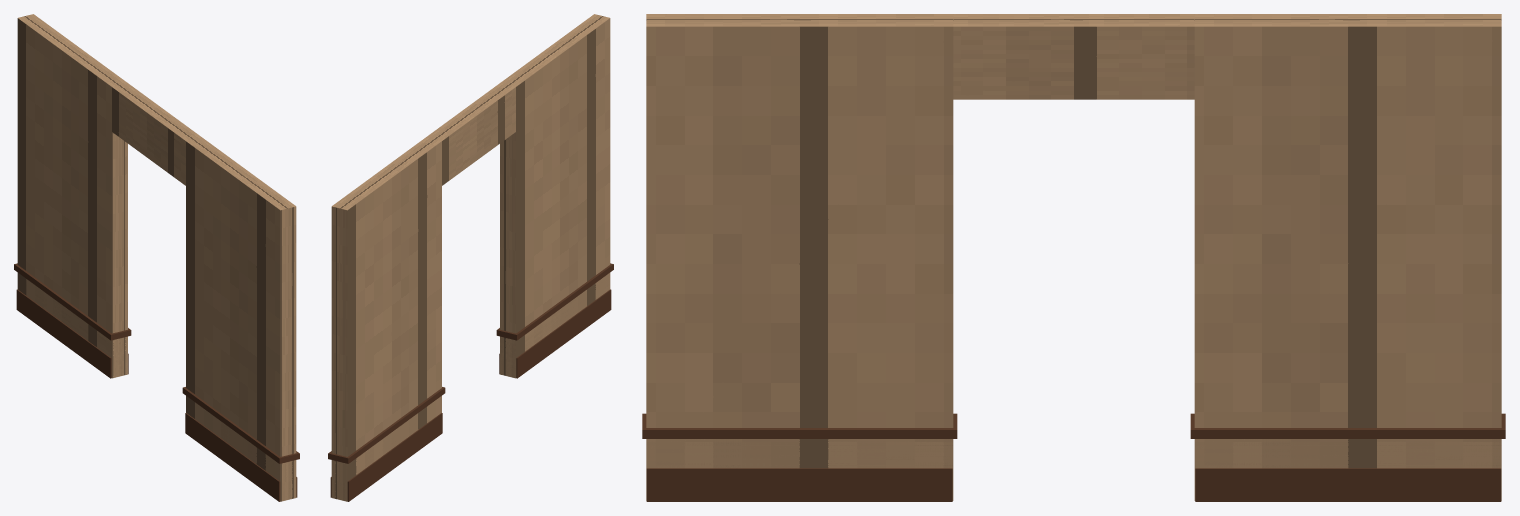
File: dining_kitchen.glb
3 renders of one model, left to right at view 1: azimuth 30°, elevation 25°; view 2: azimuth 150°, elevation 25°; view 3: azimuth 270°, elevation 25°, orthographic. The views are drawn at different scales.
Parts seen in each view (by area): view 1: Box3, Box1, Box5, Box4, Box2, Box6, Box7, Box9; view 2: Box1, Box3, Box5, Box2, Box4, Box8, Box7, Box9; view 3: Box3, Box1, Box5, Box2, Box4, Box6, Box8, Box7, Box9.
Part boxes in pixels (x1,y1,x2,y2): Box3: (186,137,296,501); Box1: (17,14,127,378); Box5: (112,83,201,185); Box4: (185,413,297,501); Box2: (16,289,128,378); Box6: (17,273,127,377); Box7: (14,263,131,340); Box9: (182,387,299,463); Box1: (331,137,441,501); Box3: (500,14,610,378); Box5: (426,83,515,185); Box2: (330,413,442,501); Box4: (499,289,611,378); Box8: (500,275,609,377); Box7: (328,387,445,463); Box9: (496,263,613,340); Box3: (646,14,953,500); Box1: (1194,14,1501,500); Box5: (953,14,1194,99); Box2: (1195,468,1501,501); Box4: (646,468,952,501); Box6: (1194,439,1501,500); Box8: (646,439,953,495); Box7: (1190,413,1505,438); Box9: (642,413,957,438).
Size of the model in its own units: 0.19 by 2.6 by 4.29.
2 materials, 1 textured.
